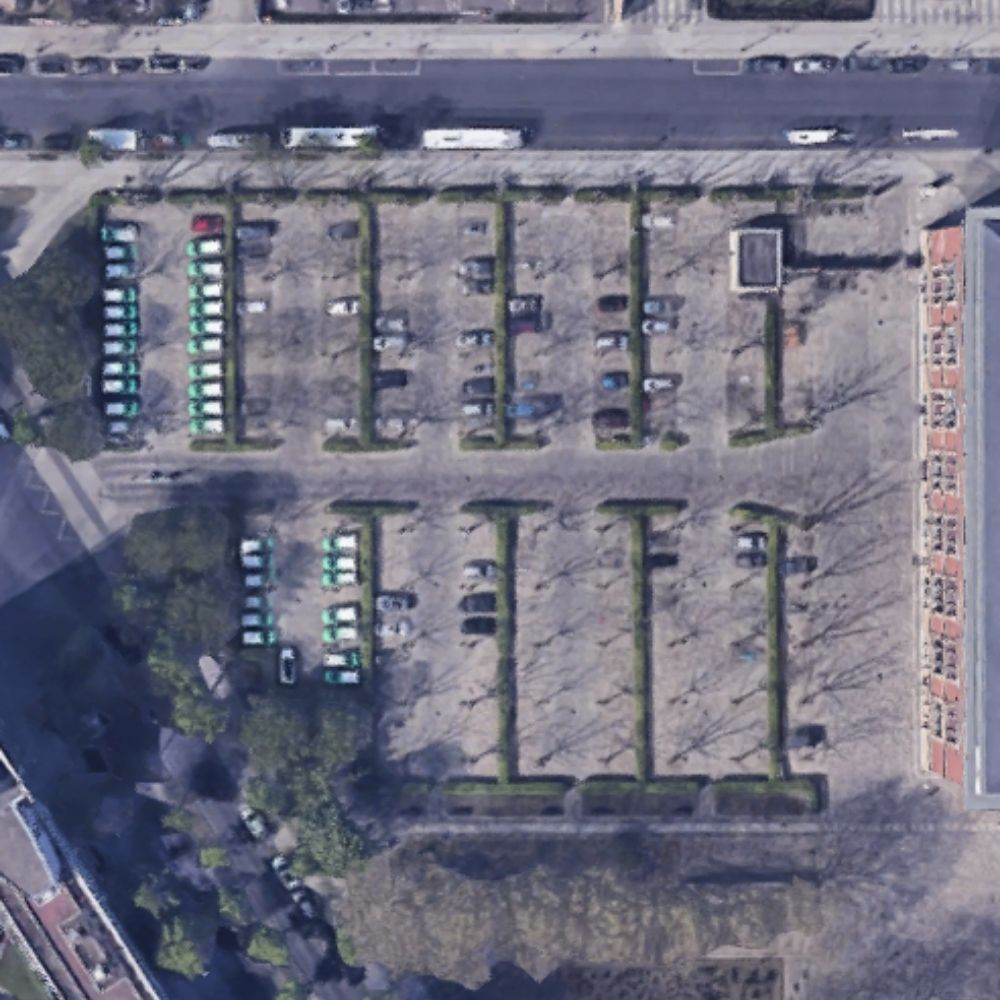parking: (100, 200, 925, 816)
